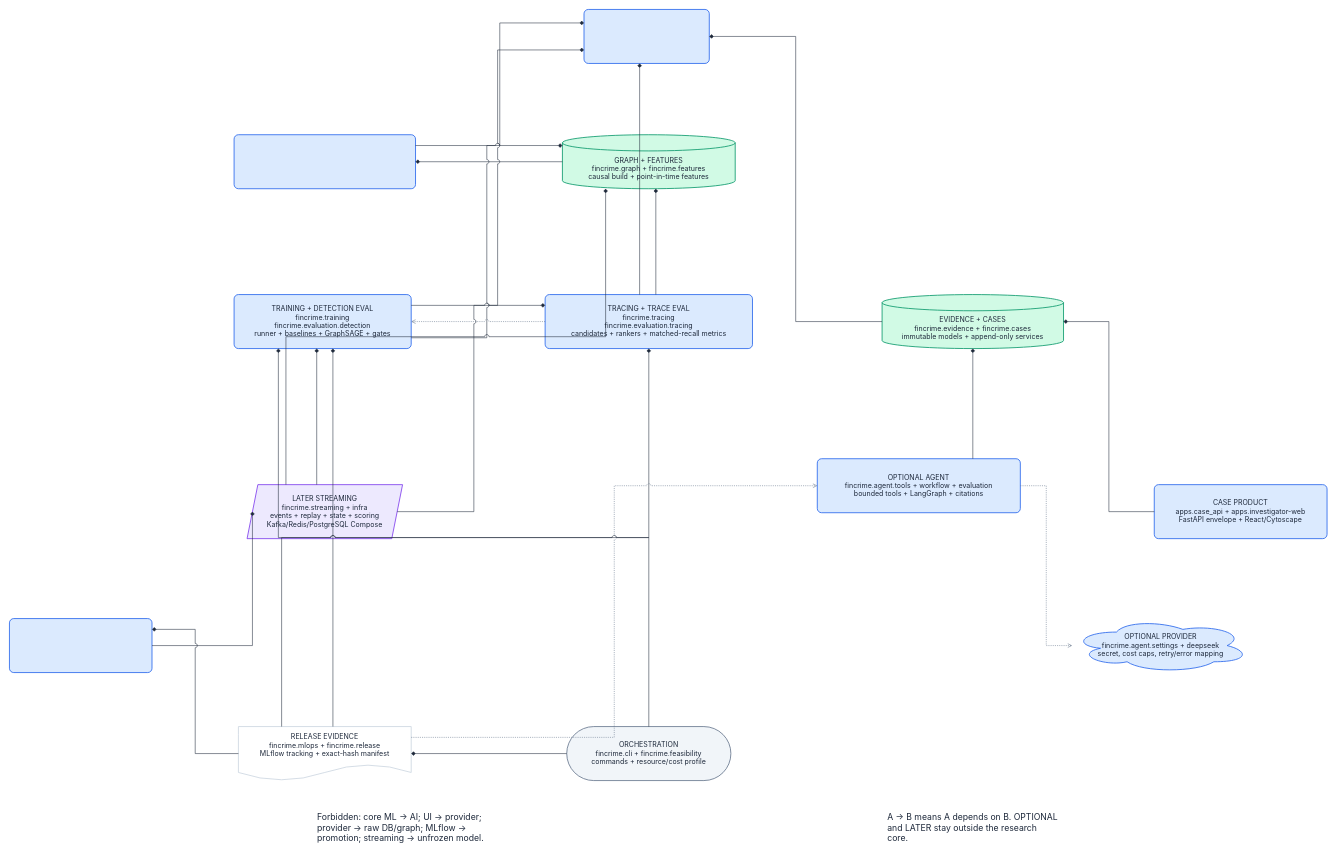
Image size: 1337x853. Some labels were removed from this diagram. Each missing label, with the centre of its shape:
"DATA fincrime.data adapters.py + tracebench.py + splits.py" belongs at pixel 324 161.
"FOUNDATION fincrime.contracts manifests.py + training.py" belongs at pixel 646 36.
"LATER MONITORING fincrime.monitoring Prometheus metrics + PSI drift" belongs at pixel 80 645.
